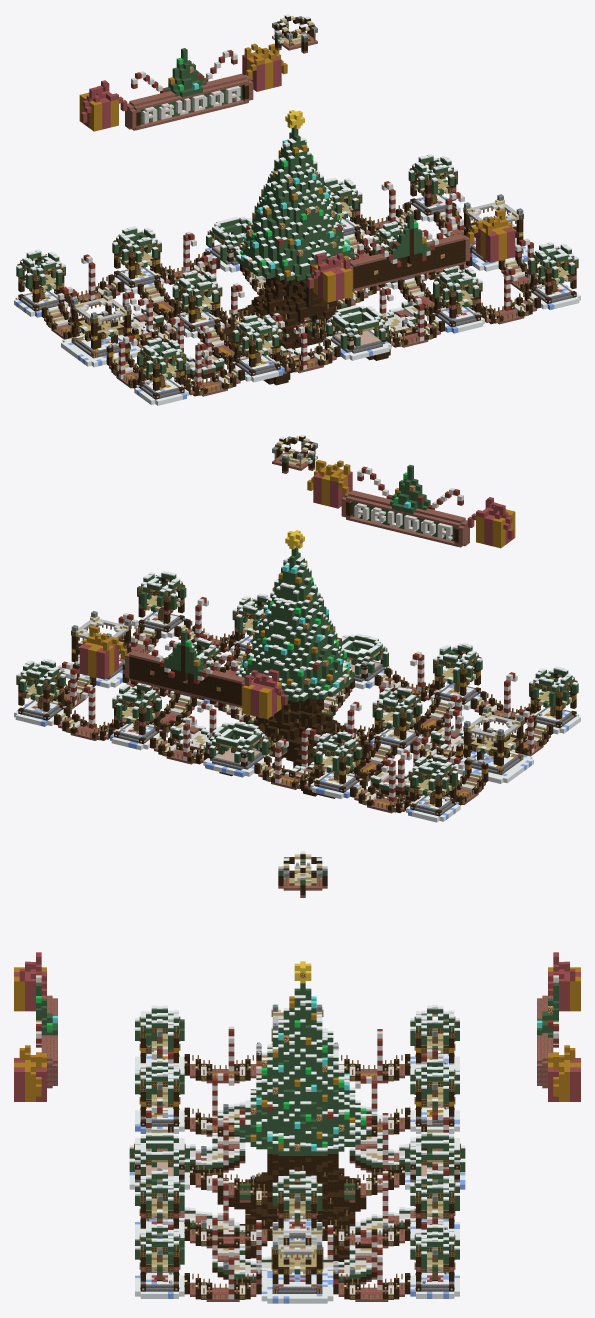
The model's file is minecraft.obj.
3 renders of one model, top to bottom at view 1: azimuth 30°, elevation 25°; view 2: azimuth 150°, elevation 25°; view 3: azimuth 270°, elevation 25°, orthographic. The views are drawn at different scales.
Bounding box in the file's own units: 107 × 74.12 × 103.
